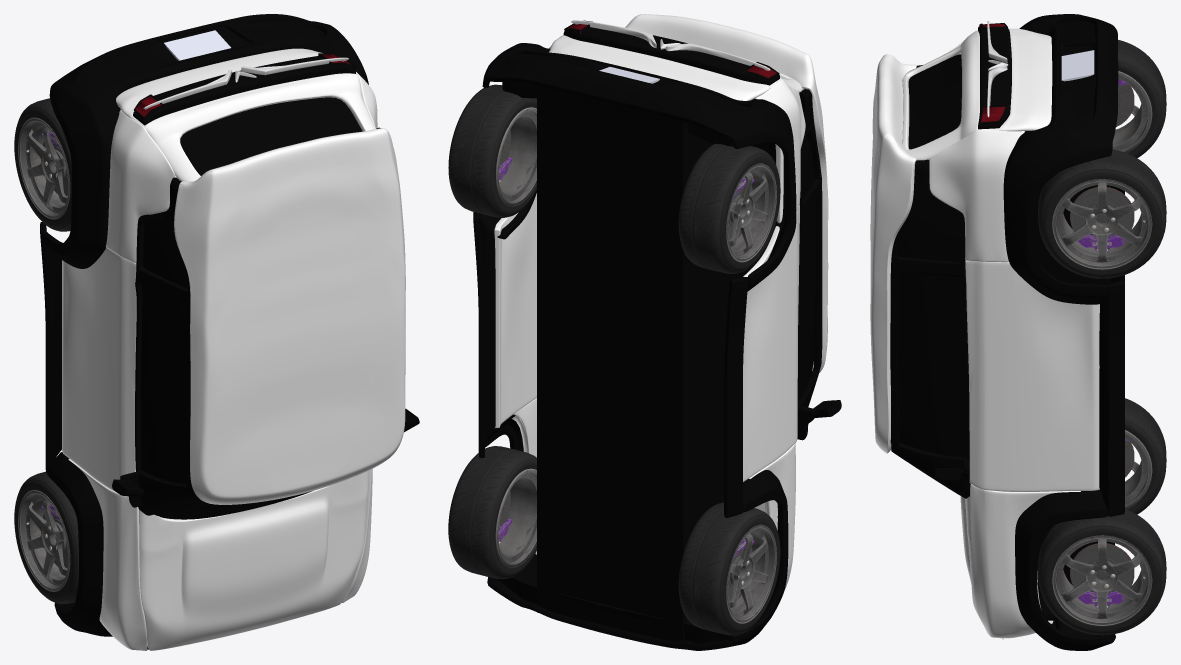
Rendered from vinfast_vf3.glb.
3 renders of one model, left to right at view 1: azimuth 30°, elevation 25°; view 2: azimuth 150°, elevation 25°; view 3: azimuth 270°, elevation 25°, orthographic. The views are drawn at different scales.
Parts seen in each view (by area): view 1: Plane.053_Tire_0.005; view 2: Plane.053_Tire_0.005; view 3: Plane.053_Tire_0.005.
Boxes of the visible parts, x1=… form: Plane.053_Tire_0.005: x1=14, y1=14, x2=419, y2=650; Plane.053_Tire_0.005: x1=448, y1=14, x2=841, y2=650; Plane.053_Tire_0.005: x1=870, y1=14, x2=1166, y2=650.
Bounding box in the file's own units: 4.84 × 9.01 × 4.37.
Materials: 15 (3 with a texture image).
